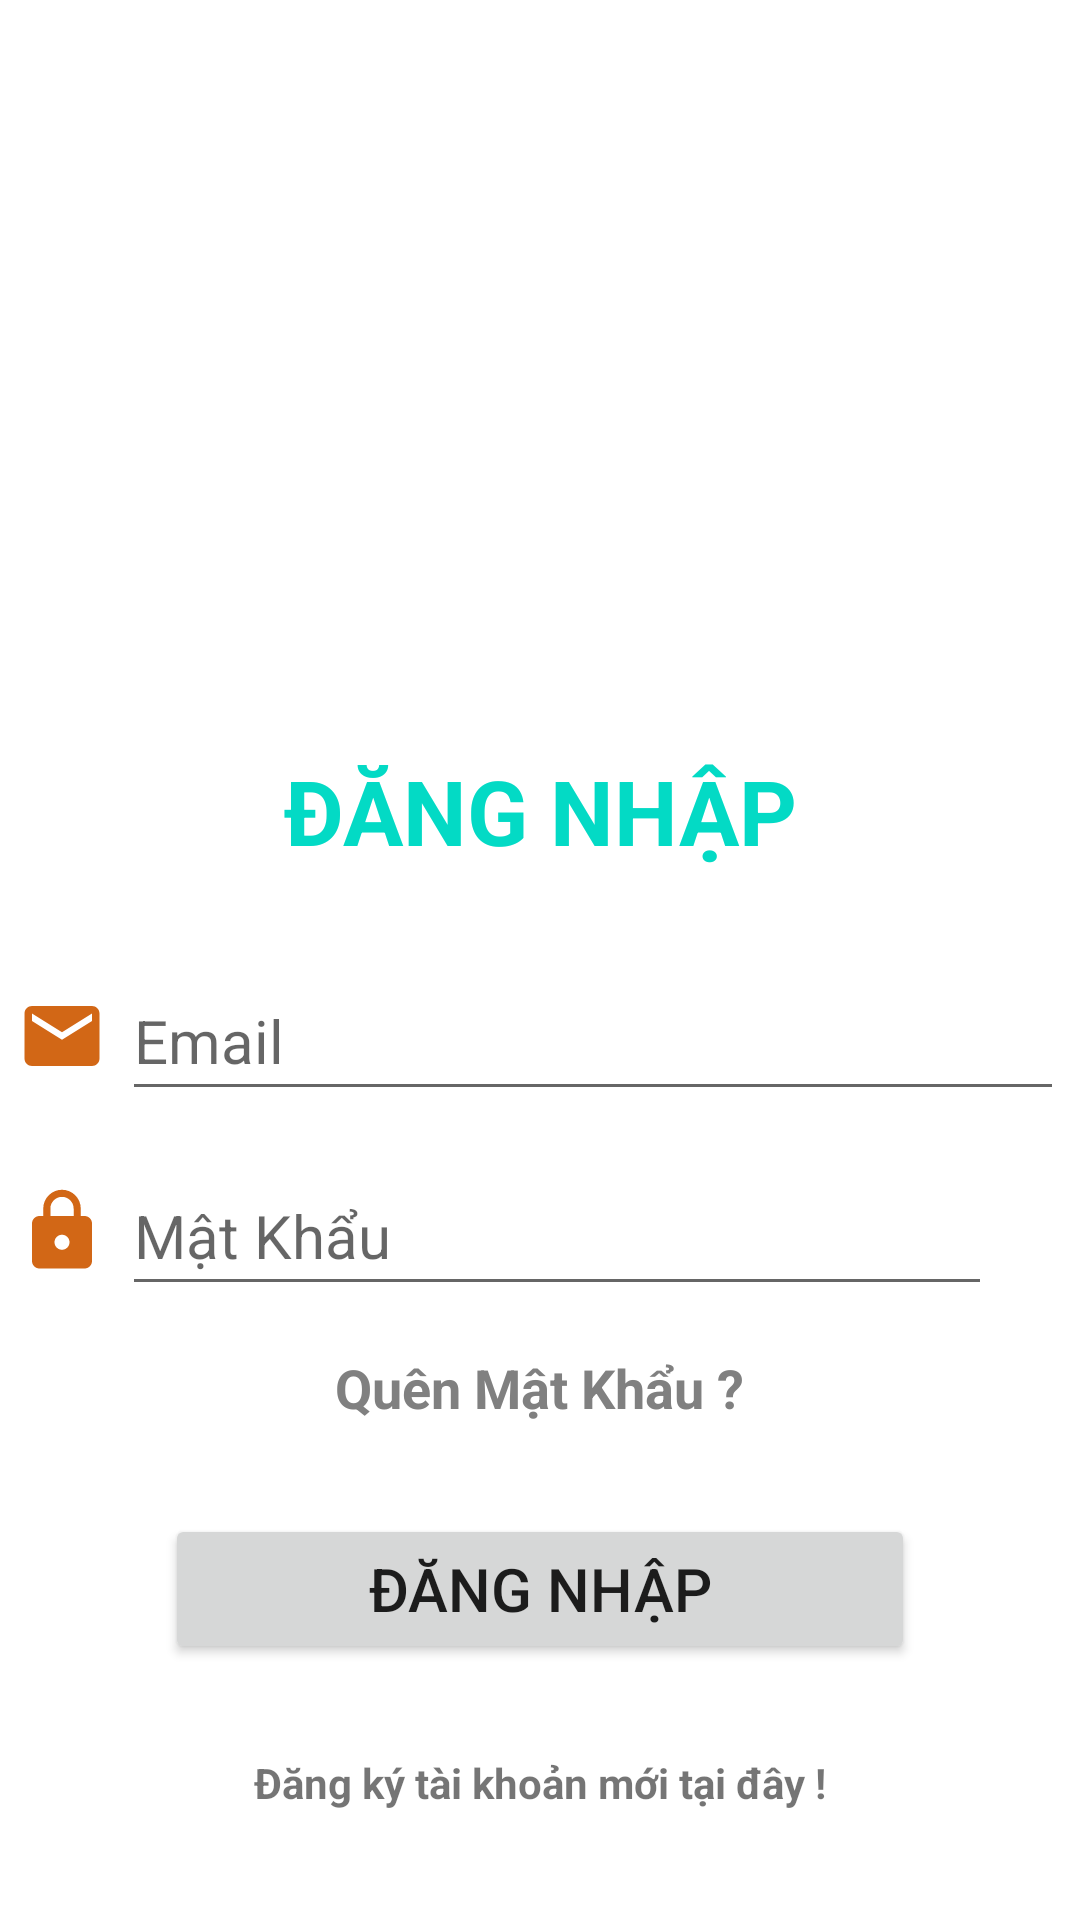

Point at icon controls on the screen. Image size 1080 x 1920, points as point (x, y).
lock: point (62, 1229)
